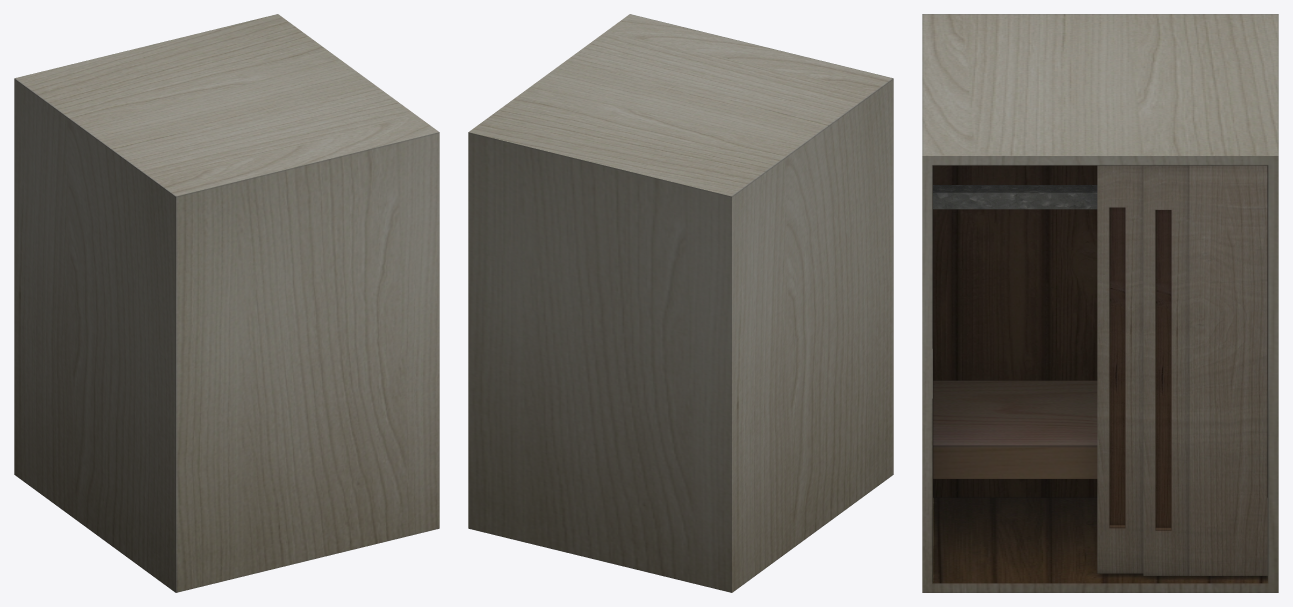
File: closet.fbx
3 views of the same model, side by side, from view 1: azimuth 30°, elevation 25°; view 2: azimuth 150°, elevation 25°; view 3: azimuth 270°, elevation 25° (orthographic). The views are drawn at different scales.
Parts seen in each view (by area): view 1: pCube5; view 2: pCube5; view 3: pCube5.
Boxes of the visible parts, box(x1,y1,x2,y2) form: pCube5: box(14, 14, 439, 592); pCube5: box(468, 14, 893, 592); pCube5: box(922, 14, 1278, 592).
Size of the model in its own units: 14.58 by 20.92 by 15.47.
Materials: 1 (1 with a texture image).
